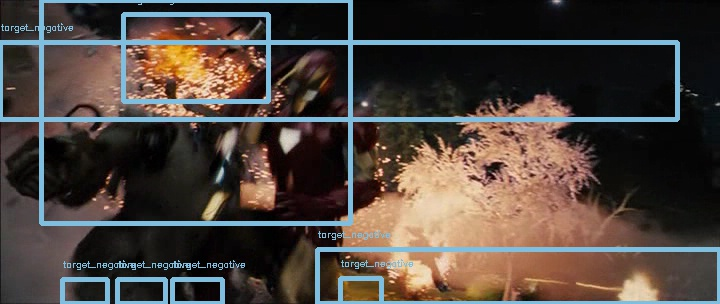person: (293, 54, 339, 108), (292, 54, 338, 108), (294, 54, 340, 108), (293, 53, 339, 107), (293, 55, 339, 109)
target_negative: (187, 132, 697, 278), (249, 175, 662, 207), (390, 196, 703, 233), (624, 223, 672, 238), (15, 181, 167, 185), (701, 40, 708, 107)
